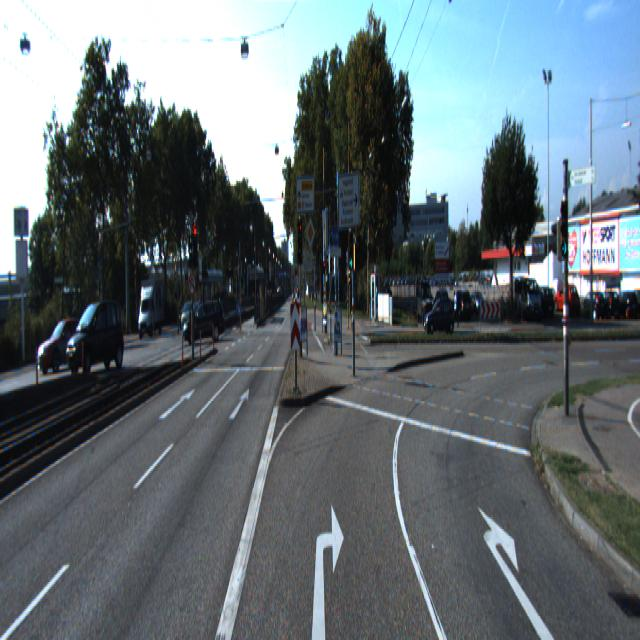Car: (66, 299, 126, 378), (37, 315, 94, 377), (181, 298, 228, 348), (422, 293, 457, 334)
DontCare: (451, 260, 639, 330)
Truck: (136, 279, 165, 339)
